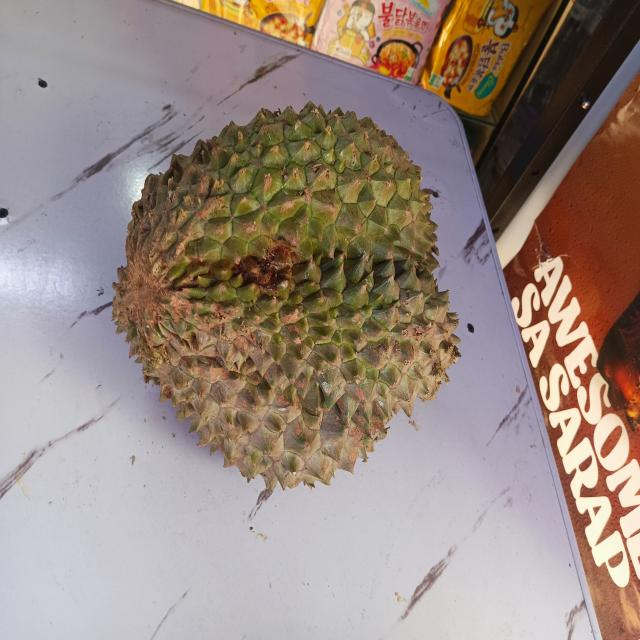mature: (116, 101, 427, 491)
